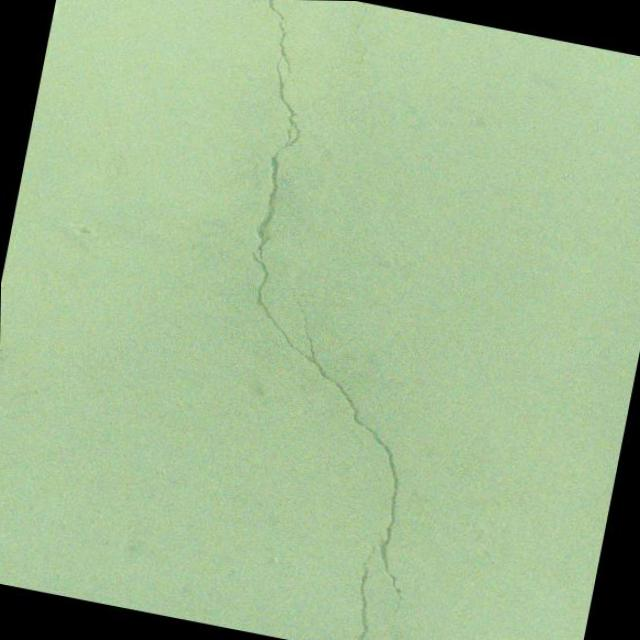crack: (156, 0, 514, 619), (345, 543, 386, 640), (343, 0, 376, 84), (305, 83, 334, 116)
